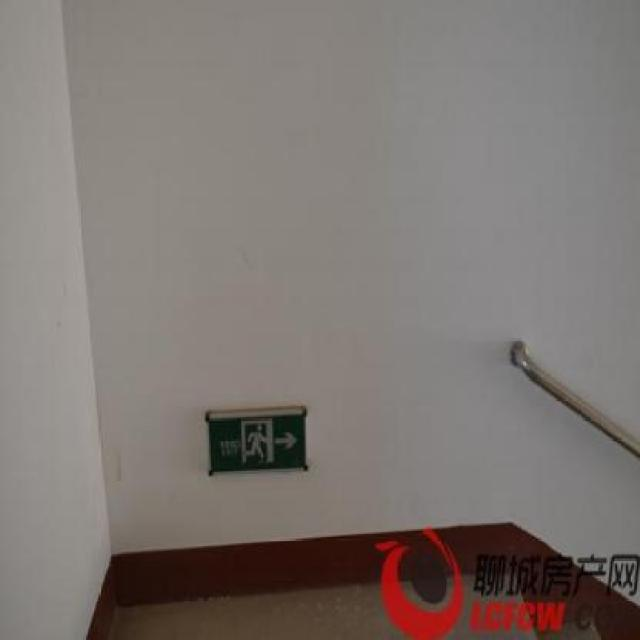exit_sign: (200, 400, 315, 476)
